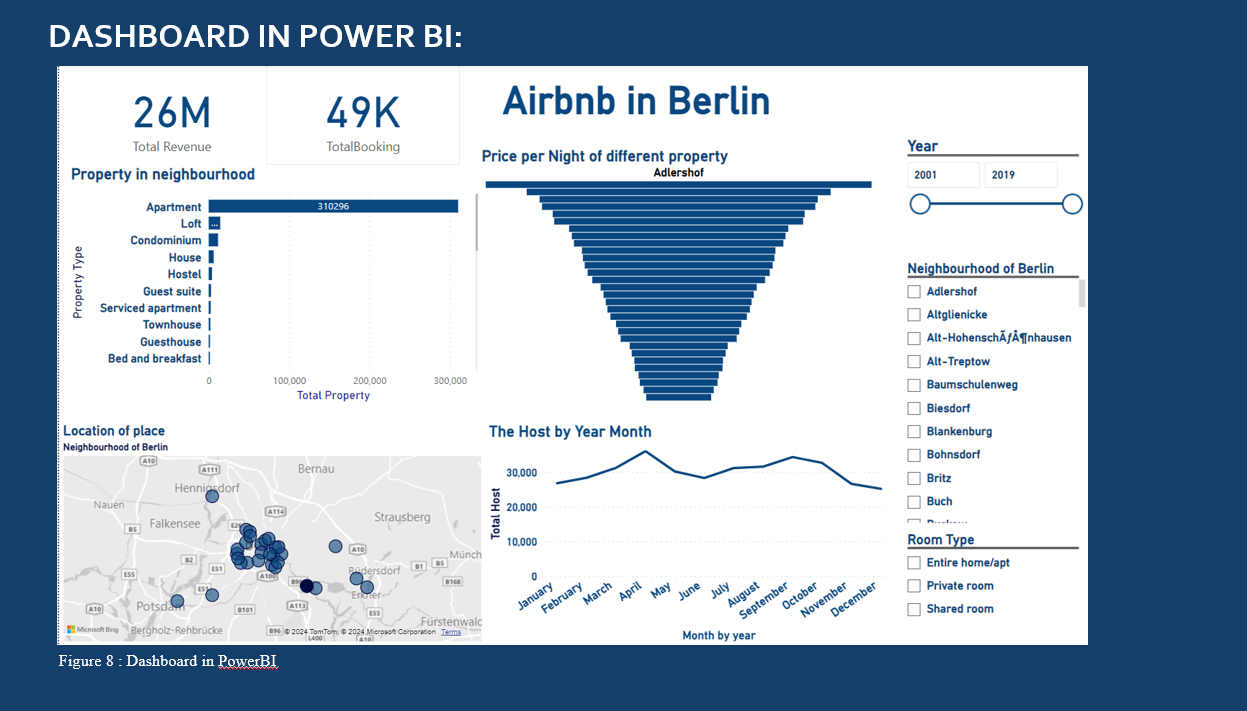

What the dashboard file says about the page in this screenshot:
{"tool":"powerbi","page":{"name":"Airbnb","canvas":[1280,720],"ordinal":0},"visuals":[{"type":"slicer","fields":{"Values":["modified_dataset.neighbourhood"]},"box":[1041.5,237.4,238.8,336.2],"z":0},{"type":"slicer","fields":{"Values":["modified_dataset.room type"]},"box":[1041.5,573.6,238.8,146.8],"z":1000},{"type":"clusteredBarChart","title":"Property in neighbourhood","fields":{"Category":["modified_dataset.property type"],"Y":["CountNonNull(modified_dataset.neighbourhood)"]},"box":[9.6,123.5,520.1,299.1],"z":2000},{"type":"funnel","title":"Average price per Night of different property (Euro)","fields":{"Category":["modified_dataset.property type"],"Y":["Avg(modified_dataset.price)"]},"box":[520.1,101.5,499.5,321.1],"z":3000},{"type":"map","title":"Location of place","fields":{"Category":["modified_dataset.city"],"Series":["modified_dataset.neighbourhood"],"X":["Avg(modified_dataset.longitude)"],"Y":["Avg(modified_dataset.latitude)"]},"box":[0,443.2,529.7,277.2],"z":4000},{"type":"lineChart","title":"The Host by Year Month","fields":{"Y":["CountNonNull(modified_dataset.host name)"],"Category":["modified_dataset.review_date.Variation.Date Hierarchy.Month"]},"box":[529.7,443.2,511.8,277.2],"z":5000},{"type":"slicer","fields":{"Values":["modified_dataset.review_date.Variation.Date Hierarchy.Year"]},"box":[1041.5,83.7,238.8,153.7],"z":6000},{"type":"card","fields":{"Values":["modified_dataset.TotalRevenue"]},"box":[9.6,0,260.7,123.5],"z":7000},{"type":"textbox","box":[546.1,9.6,447.3,79.6],"z":8000},{"type":"card","fields":{"Values":["modified_dataset.TotalBooking"]},"box":[258,0,240.1,123.5],"z":9000}]}

Visuals, with their boxes in screenshot pixels (x1, y1, x2, y2), scaled from the page's 1280x720 canvas onto the 1247x711 screenshot:
slicer - modified_dataset.neighbourhood: 1015/234/1246/566
slicer - modified_dataset.room type: 1015/566/1246/710
"Property in neighbourhood" clusteredBarChart: 9/122/516/417
"Average price per Night of different property (Euro)" funnel: 507/100/993/417
"Location of place" map: 0/438/516/710
"The Host by Year Month" lineChart: 516/438/1015/710
slicer - modified_dataset.review_date.Variation.Date Hierarchy.Year: 1015/83/1246/234
card - modified_dataset.TotalRevenue: 9/0/263/122
textbox: 532/9/968/88
card - modified_dataset.TotalBooking: 251/0/485/122
